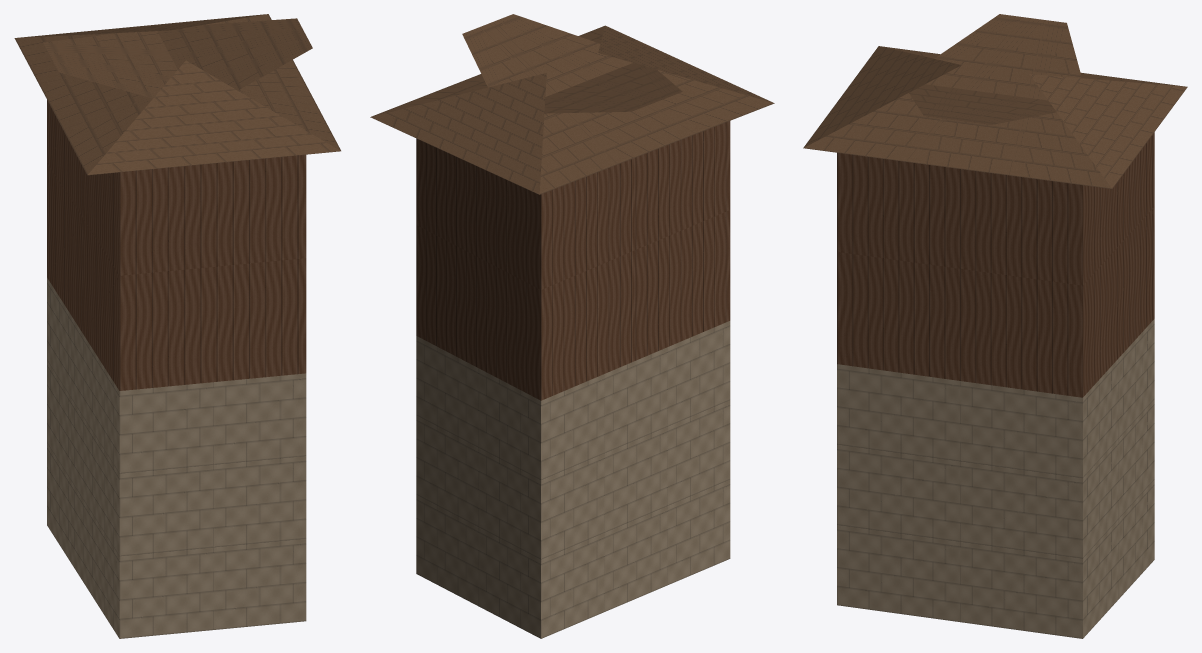
Rendered from bld_c22_45_384.gltf.
The picture shows the model from 3 angles, left to right: view 1: azimuth 30°, elevation 25°; view 2: azimuth 150°, elevation 25°; view 3: azimuth 270°, elevation 25°; orthographic projection. The views are drawn at different scales.
Parts seen in each view (by area): view 1: bld_c22_45_384; view 2: bld_c22_45_384; view 3: bld_c22_45_384.
Part boxes in pixels (x1=…): bld_c22_45_384: x1=14, y1=14, x2=340, y2=638; bld_c22_45_384: x1=370, y1=14, x2=774, y2=638; bld_c22_45_384: x1=803, y1=14, x2=1187, y2=638.
Size of the model in its own units: 6.39 by 10.7 by 7.27.
Materials: 3 (3 with a texture image).
